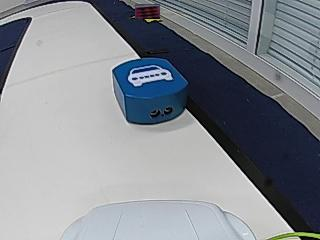safety: (127, 64, 174, 86)
